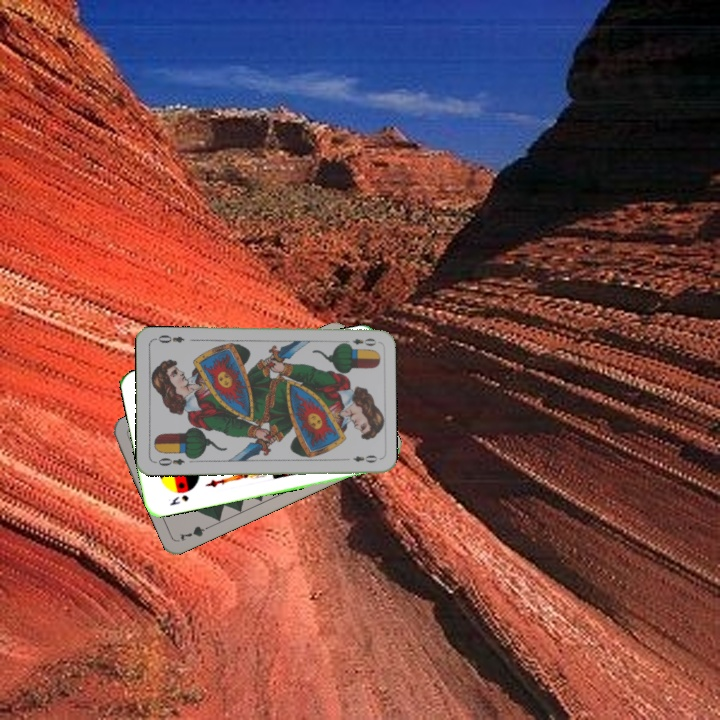EO: (339, 334, 379, 349), (151, 453, 187, 469)
G7: (175, 521, 215, 544)
SK: (166, 491, 191, 508)
